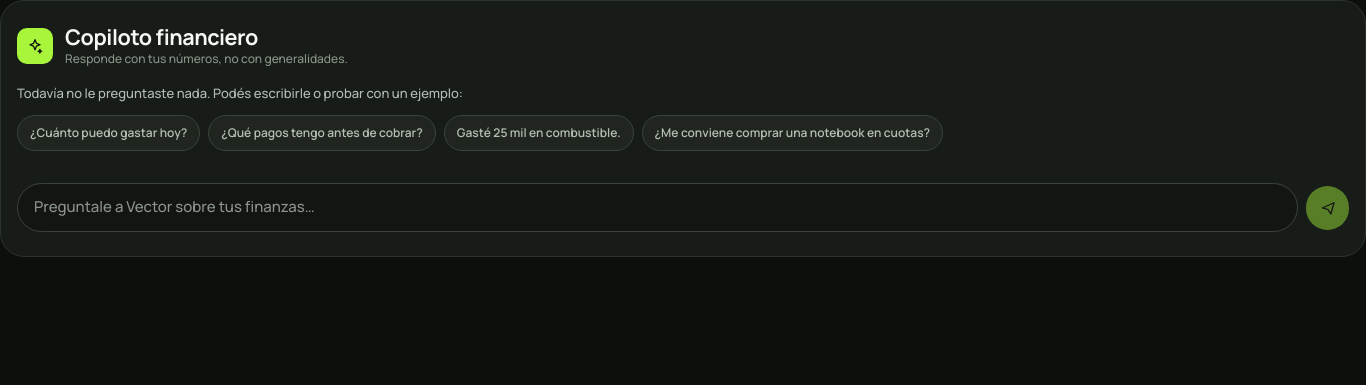
CopilotPanel › sin explicación del backend no muestra la sección "Cómo lo resolví"
Click the button "¿Cuánto puedo gastar hoy?": point(109, 133) [17,115,200,151]
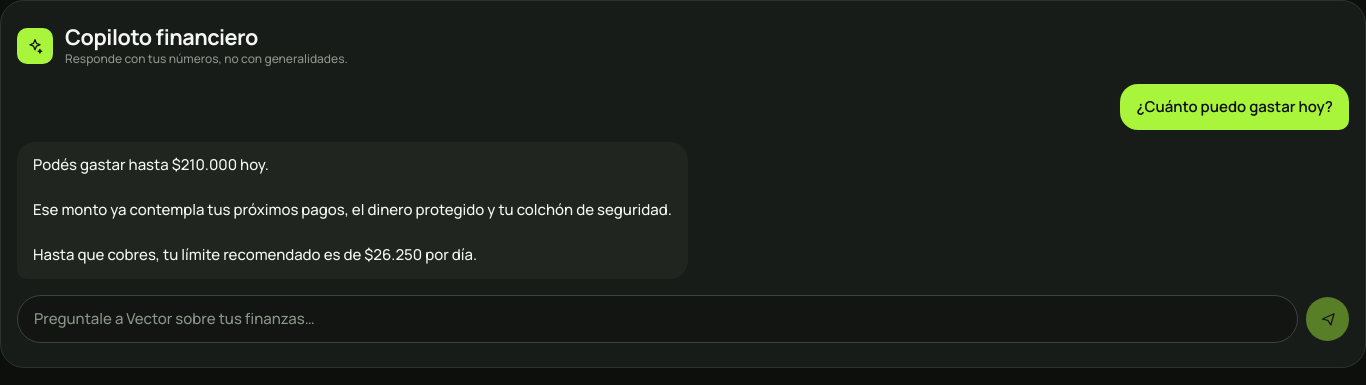
Now the text "Podés gastar hasta" is shown, box [33,154,672,265]
